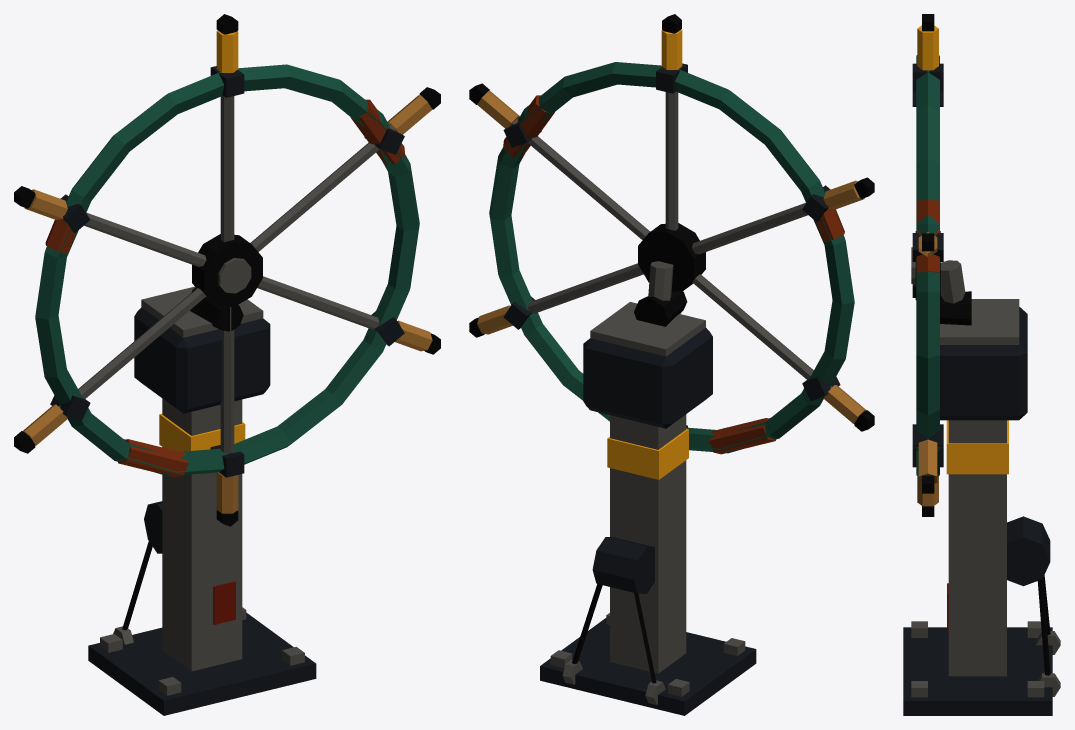
The model's file is upgrade_ship_s_wheel_ash_rudder.three-web-toon.glb.
The picture shows the model from 3 angles, left to right: view 1: azimuth 30°, elevation 25°; view 2: azimuth 150°, elevation 25°; view 3: azimuth 270°, elevation 25°; orthographic projection. The views are drawn at different scales.
Parts seen in each view (by area): view 1: upgrade_ship_s_wheel_ash_rudder_mesh; view 2: upgrade_ship_s_wheel_ash_rudder_mesh; view 3: upgrade_ship_s_wheel_ash_rudder_mesh.
Boxes of the visible parts, <box> form: upgrade_ship_s_wheel_ash_rudder_mesh: <box>14,14,440,715</box>; upgrade_ship_s_wheel_ash_rudder_mesh: <box>469,14,874,715</box>; upgrade_ship_s_wheel_ash_rudder_mesh: <box>903,14,1060,715</box>.
Size of the model in its own units: 1.16 by 1.77 by 0.38.
